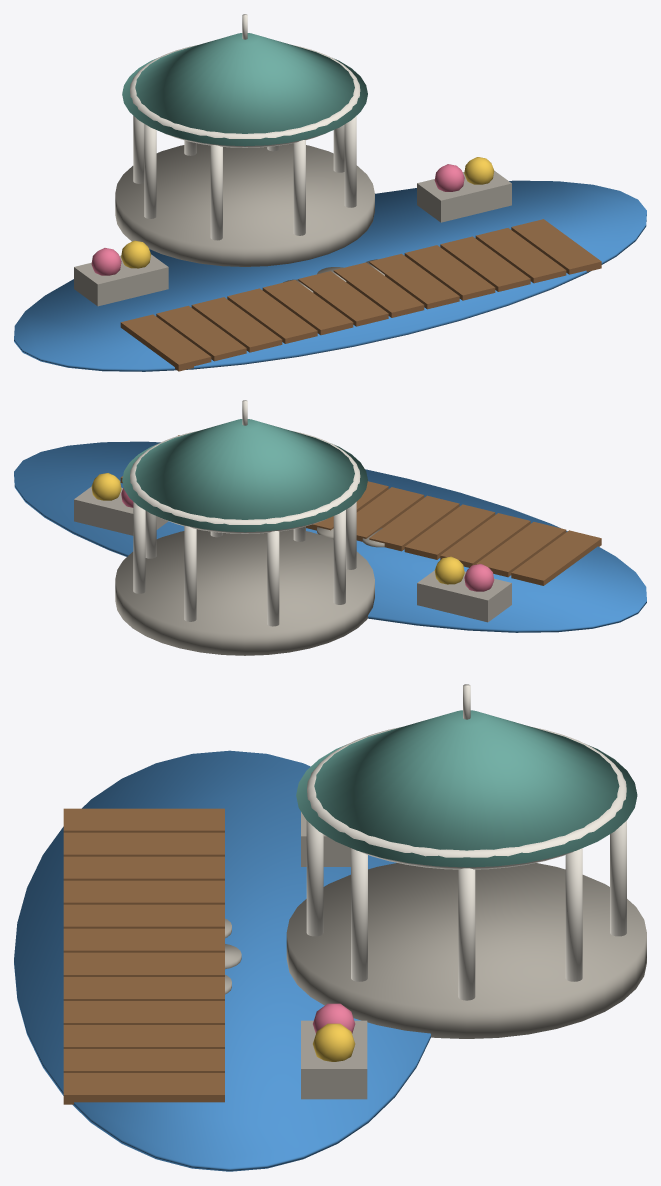
The model's file is park_observatory.glb.
3 views of the same model, one above another, from view 1: azimuth 30°, elevation 25°; view 2: azimuth 150°, elevation 25°; view 3: azimuth 270°, elevation 25° (orthographic). The views are drawn at different scales.
Parts seen in each view (by area): view 1: Cylinder.001, Cylinder.009, Cone, Cube.012, Cube.013, Cube, Torus, Cube.011, Cube.002, Cube.008, Cube.004, Cube.010 (+16 smaller); view 2: Cylinder.009, Cylinder.001, Cone, Cube.012, Cube, Torus, Cube.003, Cube.004, Cube.001, Cube.002, Cube.013, Cube.005 (+10 smaller); view 3: Cylinder.001, Cylinder.009, Cone, Cube.011, Torus, Cube, Cube.001, Cube.002, Cube.003, Cube.004, Cube.005, Cube.006 (+13 smaller).
Boxes of the visible parts, left/top/right/bottom form: Cylinder.001: left=14, top=180, right=646, bottom=371; Cylinder.009: left=115, top=143, right=374, bottom=266; Cone: left=122, top=33, right=367, bottom=146; Cube.012: left=74, top=254, right=168, bottom=306; Cube.013: left=417, top=171, right=511, bottom=222; Cube: left=120, top=314, right=211, bottom=371; Torus: left=130, top=45, right=360, bottom=147; Cube.011: left=511, top=219, right=601, bottom=274; Cube.002: left=191, top=297, right=282, bottom=352; Cube.008: left=404, top=245, right=495, bottom=300; Cube.004: left=262, top=280, right=353, bottom=335; Cube.010: left=475, top=228, right=566, bottom=283; Cylinder.009: left=115, top=529, right=374, bottom=655; Cylinder.001: left=14, top=441, right=646, bottom=632; Cone: left=122, top=419, right=367, bottom=532; Cube.012: left=417, top=570, right=511, bottom=622; Cube: left=511, top=530, right=601, bottom=585; Torus: left=130, top=431, right=360, bottom=533; Cube.003: left=404, top=504, right=495, bottom=559; Cube.004: left=369, top=495, right=459, bottom=551; Cube.001: left=475, top=522, right=566, bottom=577; Cube.002: left=440, top=513, right=530, bottom=567; Cube.013: left=74, top=486, right=168, bottom=535; Cube.005: left=356, top=487, right=424, bottom=541; Cylinder.001: left=14, top=750, right=430, bottom=1171; Cylinder.009: left=286, top=863, right=646, bottom=1038; Cone: left=296, top=710, right=637, bottom=867; Cube.011: left=63, top=1073, right=224, bottom=1104; Torus: left=307, top=727, right=626, bottom=869; Cube: left=63, top=808, right=224, bottom=832; Cube.001: left=63, top=832, right=224, bottom=856; Cube.002: left=63, top=856, right=224, bottom=880; Cube.003: left=63, top=880, right=224, bottom=904; Cube.004: left=63, top=904, right=224, bottom=928; Cube.005: left=63, top=928, right=224, bottom=952; Cube.006: left=63, top=952, right=224, bottom=976.
Size of what is drawn, in the model's own units: 20.8 by 6.46 by 13.35.
